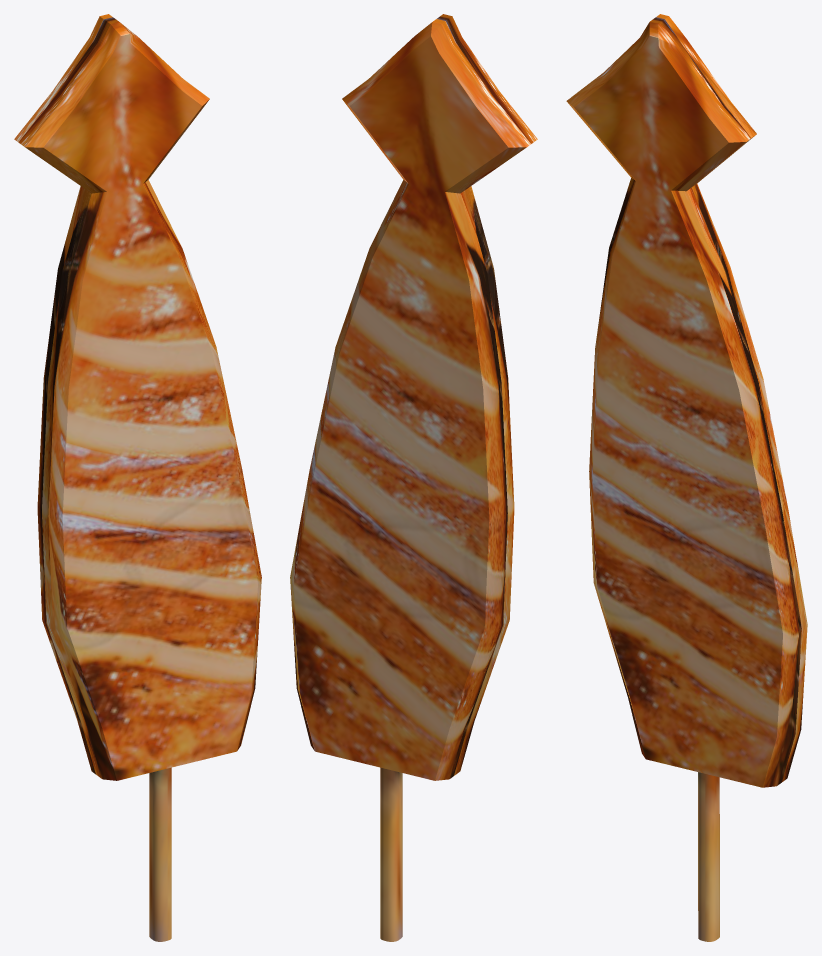
Rendered from SquidStick1.fbx.
3 views of the same model, side by side, from view 1: azimuth 30°, elevation 25°; view 2: azimuth 150°, elevation 25°; view 3: azimuth 330°, elevation 25° (orthographic). The views are drawn at different scales.
Visible parts, largest first — view 1: pCube4; view 2: pCube4; view 3: pCube4.
Boxes of the visible parts, <box> form: pCube4: <box>14,14,261,941</box>; pCube4: <box>290,14,537,941</box>; pCube4: <box>566,14,807,941</box>.
Bounding box in the file's own units: 6.86 × 25.76 × 1.07.
